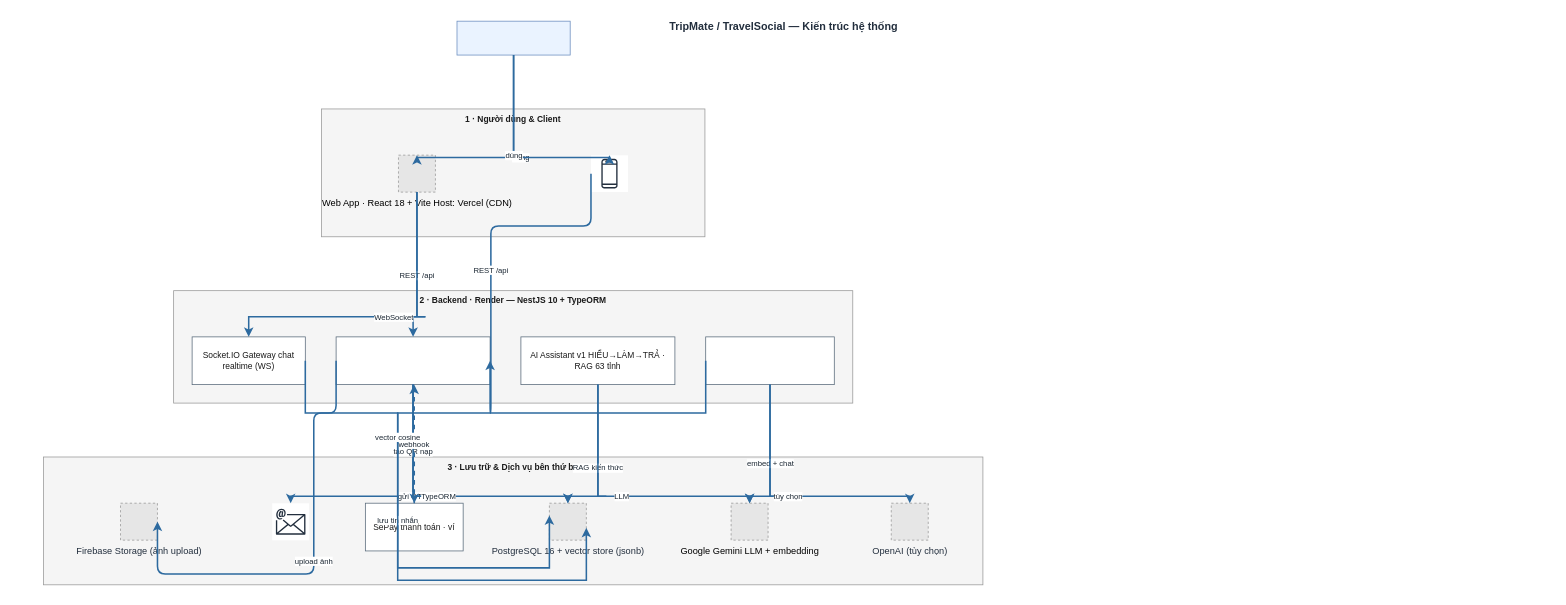
Some shapes in this 1566 by 605 pixel diagram are drawn without their labels. Grey dashed boxes stand in for pictures. Each missing label, with the centre of its shape:
"Khách & Thành viên" belongs at point 513,37.
"Mobile · Capacitor (Android)" belongs at point 609,173.
"RAG v2 Agent tool-calling + vector" belongs at point 769,360.
"REST API JWT · Passport · 15 module" belongs at point 412,360.
"SMTP OTP email" belongs at point 290,521.
